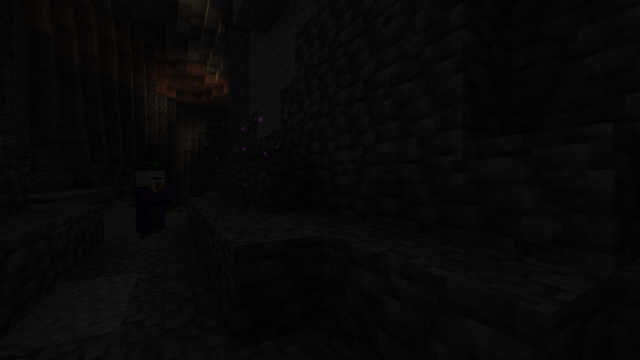sorcieres: (136, 167, 163, 241)
